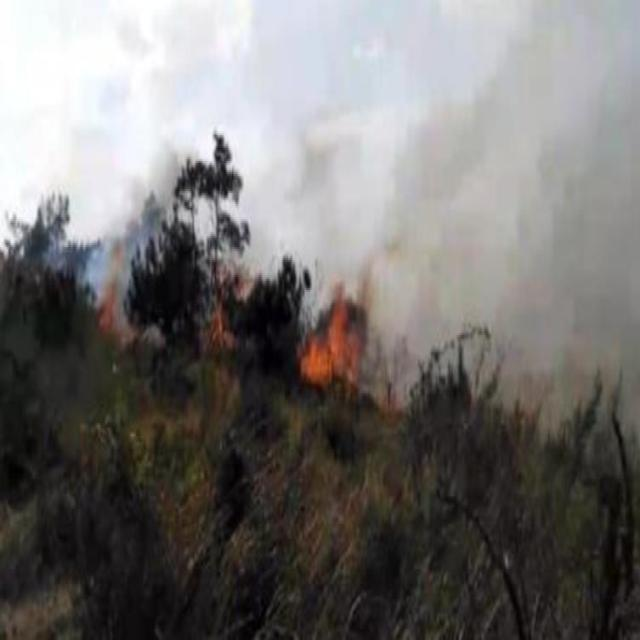fire: (285, 275, 372, 415), (200, 240, 260, 371), (98, 217, 126, 345)
smoke: (262, 23, 622, 414)
